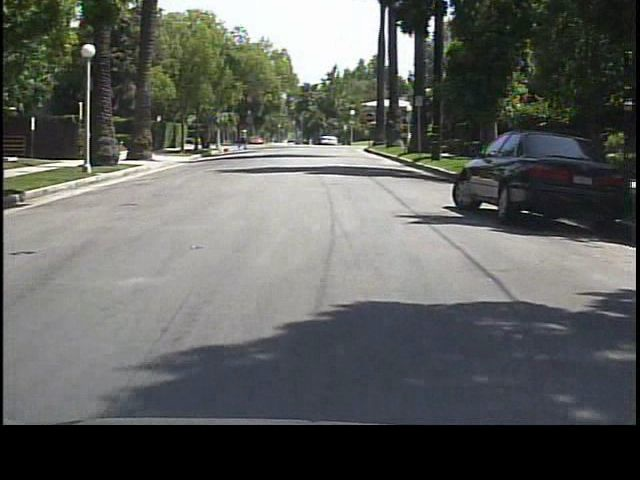person: (237, 127, 251, 156)
